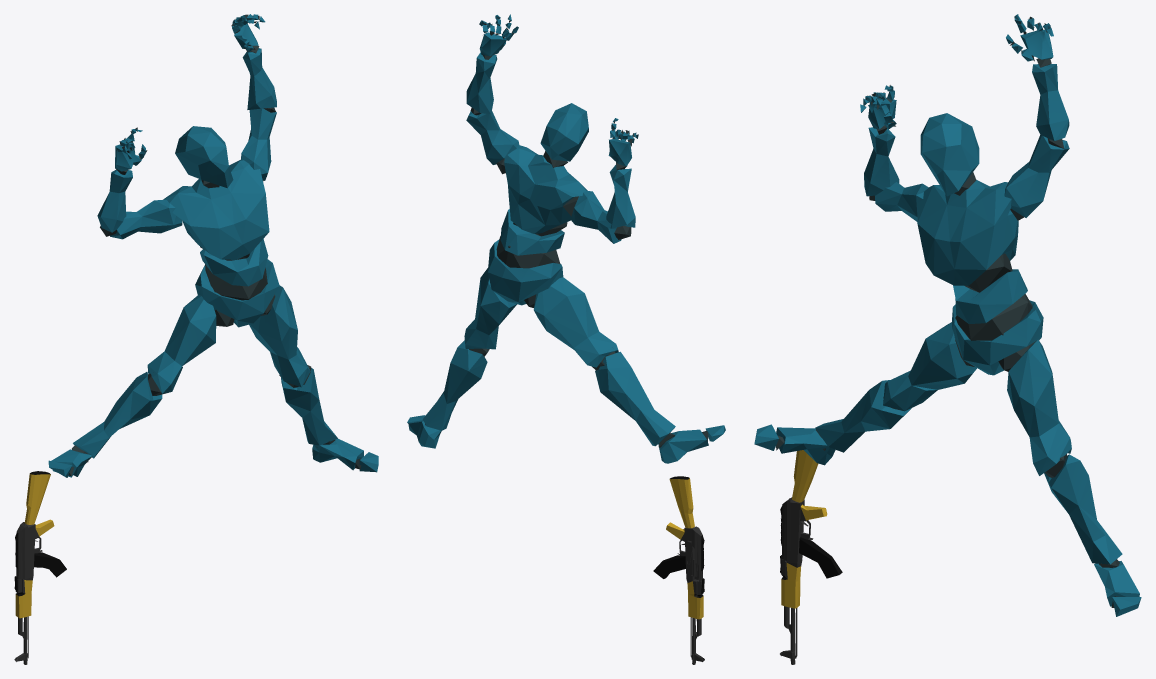
File: EnemyDying_000125.obj
3 renders of one model, left to right at view 1: azimuth 30°, elevation 25°; view 2: azimuth 150°, elevation 25°; view 3: azimuth 330°, elevation 25°, orthographic. The views are drawn at different scales.
Visible parts, largest first — view 1: Alpha_Surface, AK-47_Cube, Alpha_Joints; view 2: Alpha_Surface, AK-47_Cube, Alpha_Joints; view 3: Alpha_Surface, AK-47_Cube, Alpha_Joints.
Part boxes in pixels (x1,y1,x2,y2): Alpha_Surface: (48,14,378,477); AK-47_Cube: (14,471,66,664); Alpha_Joints: (68,14,361,476); Alpha_Surface: (407,14,725,463); AK-47_Cube: (653,476,704,664); Alpha_Joints: (425,17,708,447); Alpha_Surface: (754,14,1141,616); AK-47_Cube: (780,450,842,664); Alpha_Joints: (776,16,1119,607).
Size of the model in its own units: 308 by 537 by 70.56.
